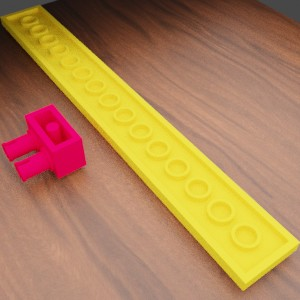lego: (0, 4, 300, 290), (1, 103, 86, 182)
